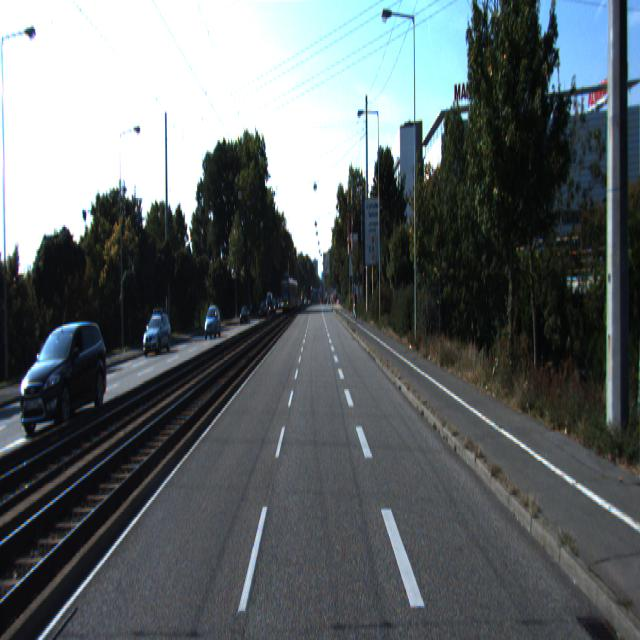Car: (19, 320, 110, 439), (141, 309, 173, 357), (203, 306, 222, 342)
